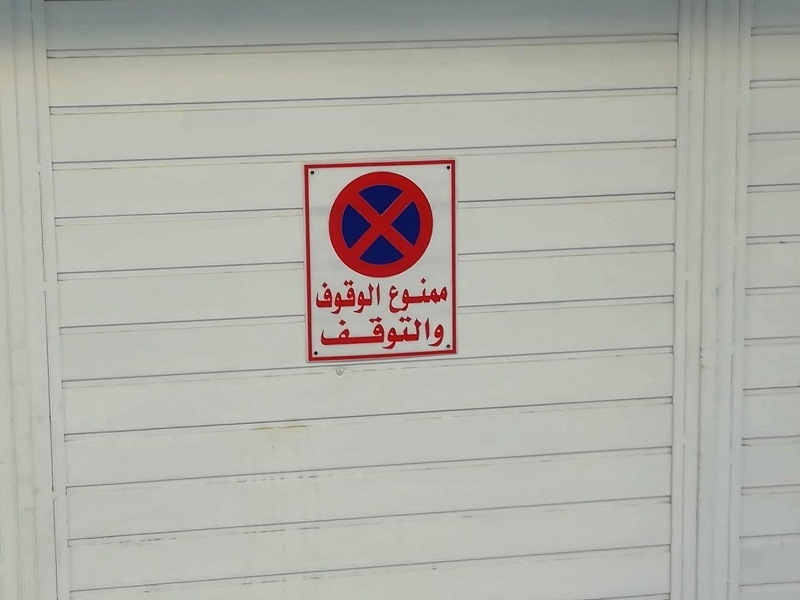text: (433, 272, 449, 316), (401, 272, 416, 316), (417, 272, 432, 316), (387, 272, 400, 316), (321, 278, 336, 316), (337, 278, 352, 316), (353, 278, 368, 316), (321, 313, 336, 351), (337, 313, 352, 351), (353, 313, 368, 351), (369, 313, 384, 351), (385, 313, 400, 351), (401, 313, 416, 351), (417, 313, 432, 351), (433, 313, 446, 351), (369, 278, 381, 316), (315, 278, 320, 316)
